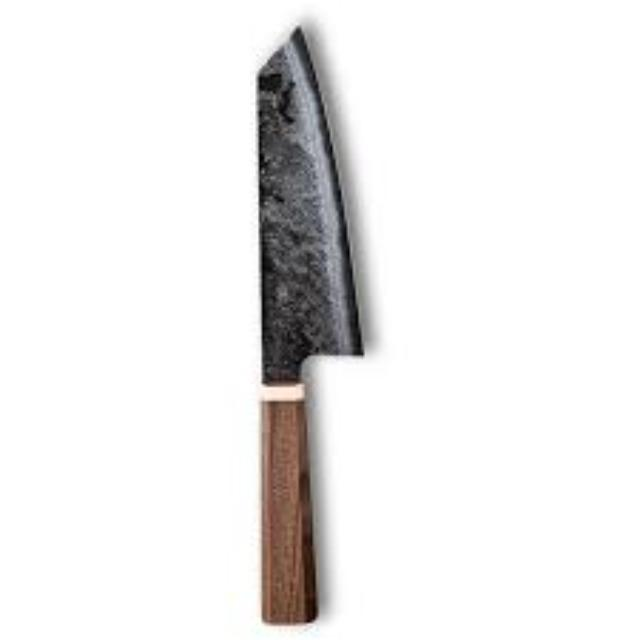knife: (254, 23, 364, 623)
